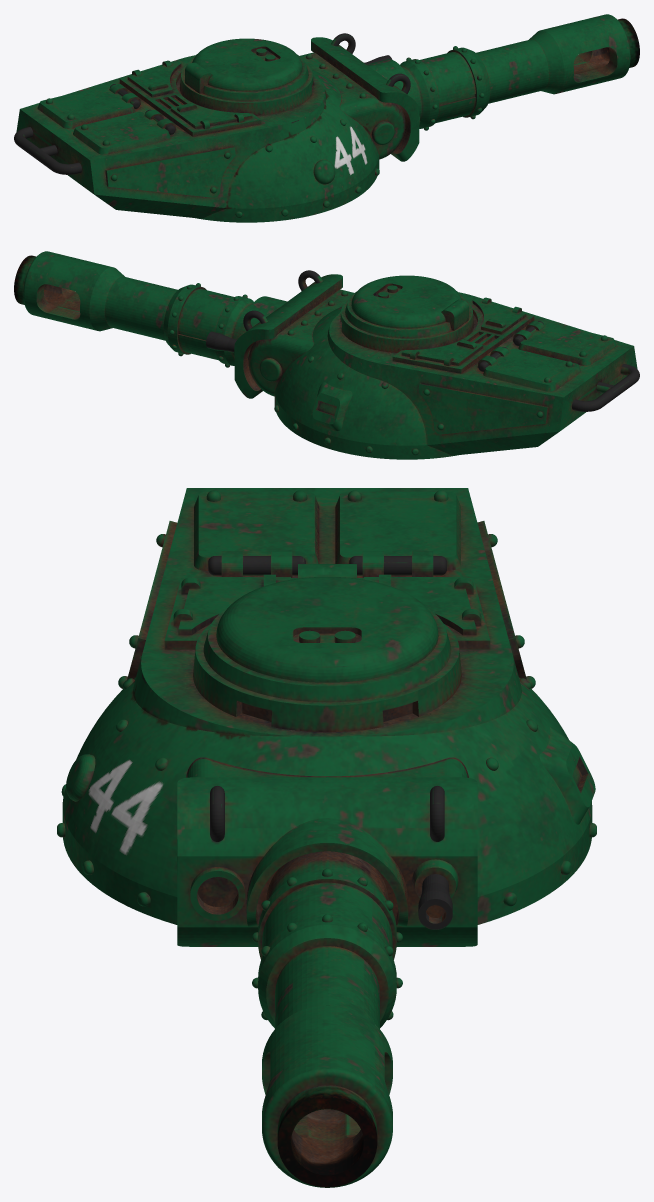
Rendered from towerBattleCannonSPP.glb.
3 renders of one model, top to bottom at view 1: azimuth 30°, elevation 25°; view 2: azimuth 150°, elevation 25°; view 3: azimuth 270°, elevation 25°, orthographic. The views are drawn at different scales.
Visible parts, largest first — view 1: towerBattleCannon; view 2: towerBattleCannon; view 3: towerBattleCannon.
Part boxes in pixels (x1=…): towerBattleCannon: x1=14, y1=14, x2=639, y2=222; towerBattleCannon: x1=14, y1=251, x2=639, y2=459; towerBattleCannon: x1=57, y1=488, x2=596, y2=1187.
Size of the model in its own units: 10235 by 1860 by 4030.
1 material, 1 textured.
